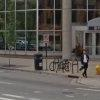Bicycle: (45, 49, 80, 76)
